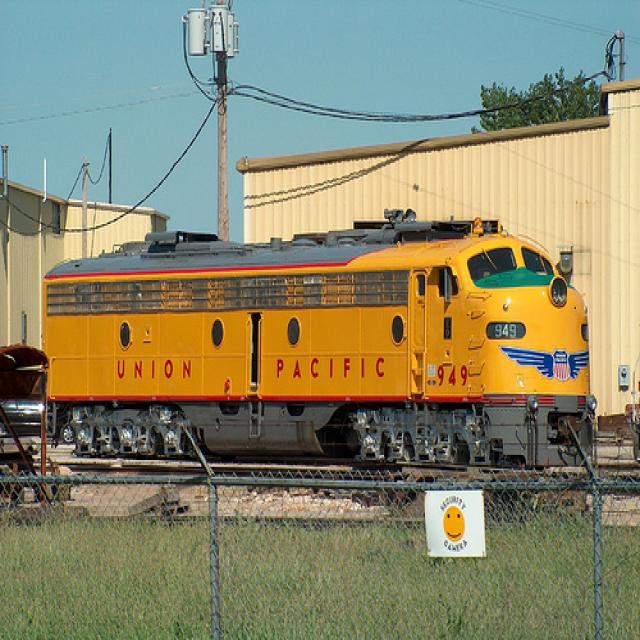locomotive: (30, 187, 604, 501)
